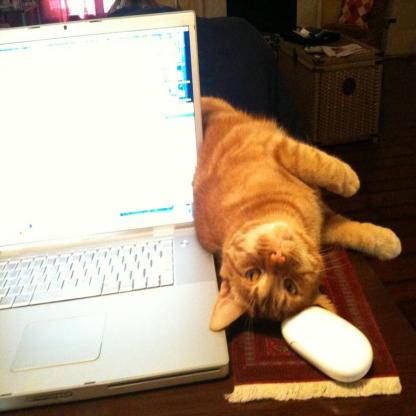board: (6, 4, 212, 416)
